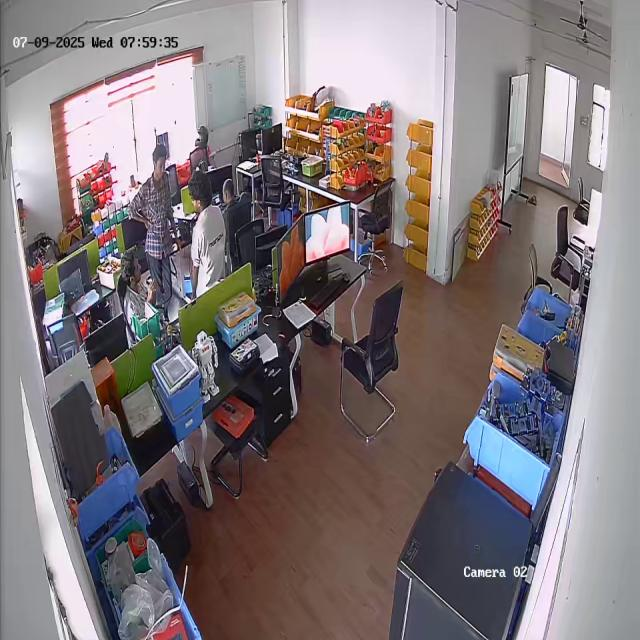person: (135, 141, 177, 300), (184, 169, 226, 297), (117, 249, 148, 325), (220, 178, 249, 220)
